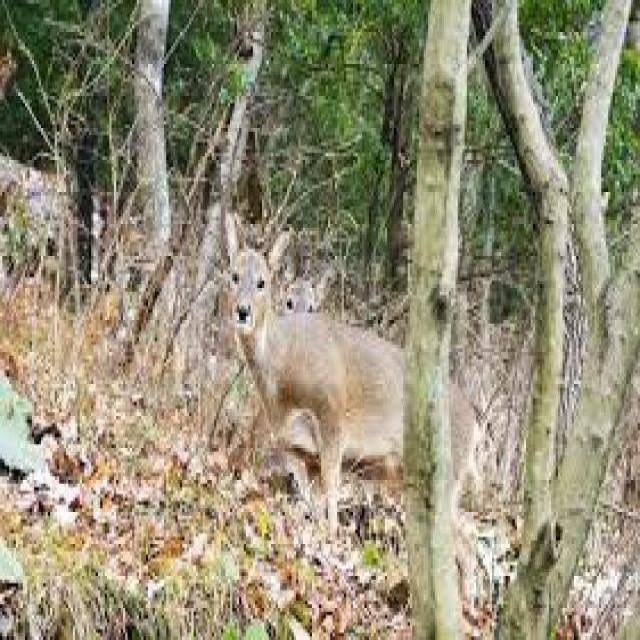deer: (224, 196, 407, 520)
